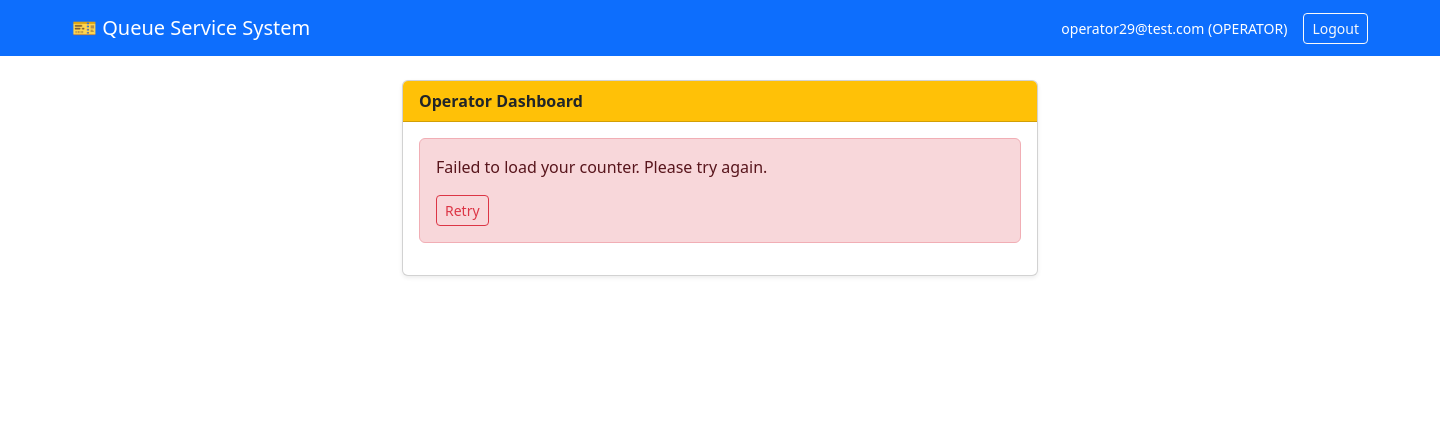
Test: Issue #1 operator assignment regression › shows a recoverable error for 401
Expected: the message "Failed to load your counter. Please try again. Retry" is shown, [419, 138, 1021, 243]
Click the button "Retry".
click(462, 210)  # box [436, 195, 489, 226]
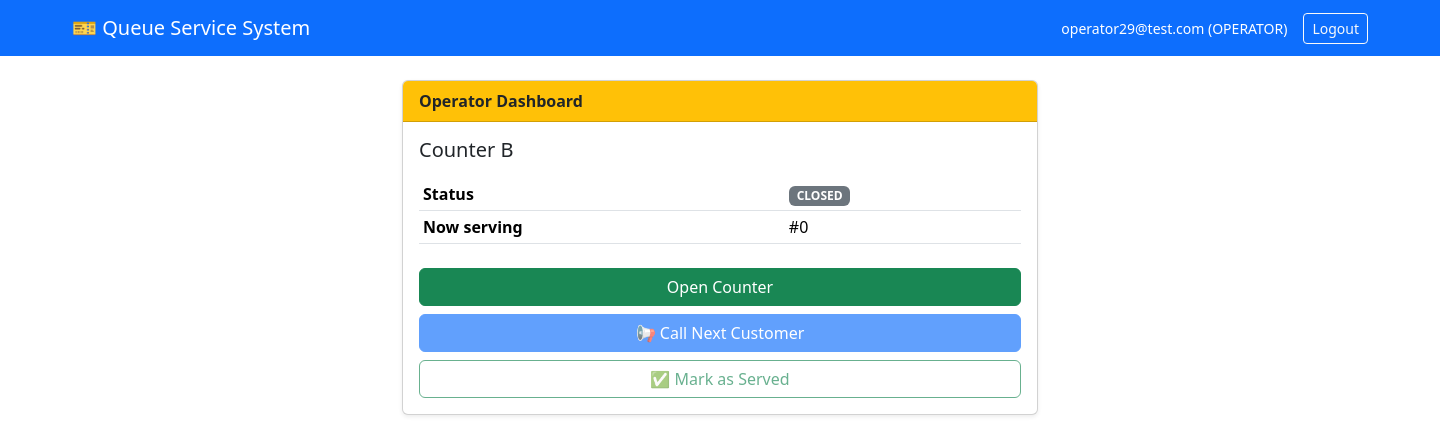
Now the heading "Counter B" is shown, box [419, 136, 513, 163]
Now the message with test id "counter-load-error" is gone
